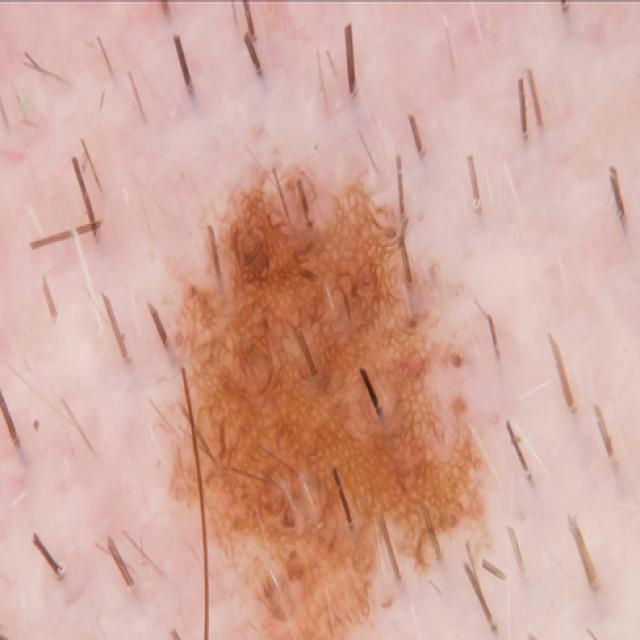Keratosis: (121, 123, 539, 640)
